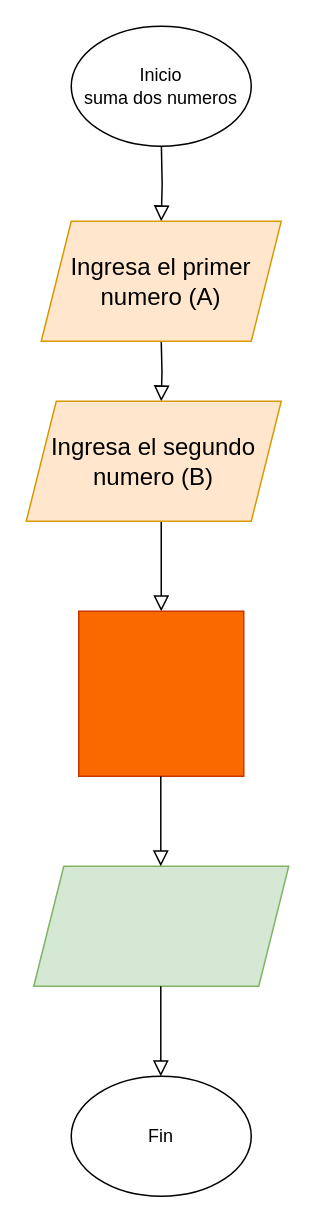
Some shapes in this 315 by 1223 pixel diagram are drawn without their labels. The centre of each missing label's shape, as x and y in pixels:
Resultado: (x=160, y=925)
sumar A y B: (x=160, y=693)
